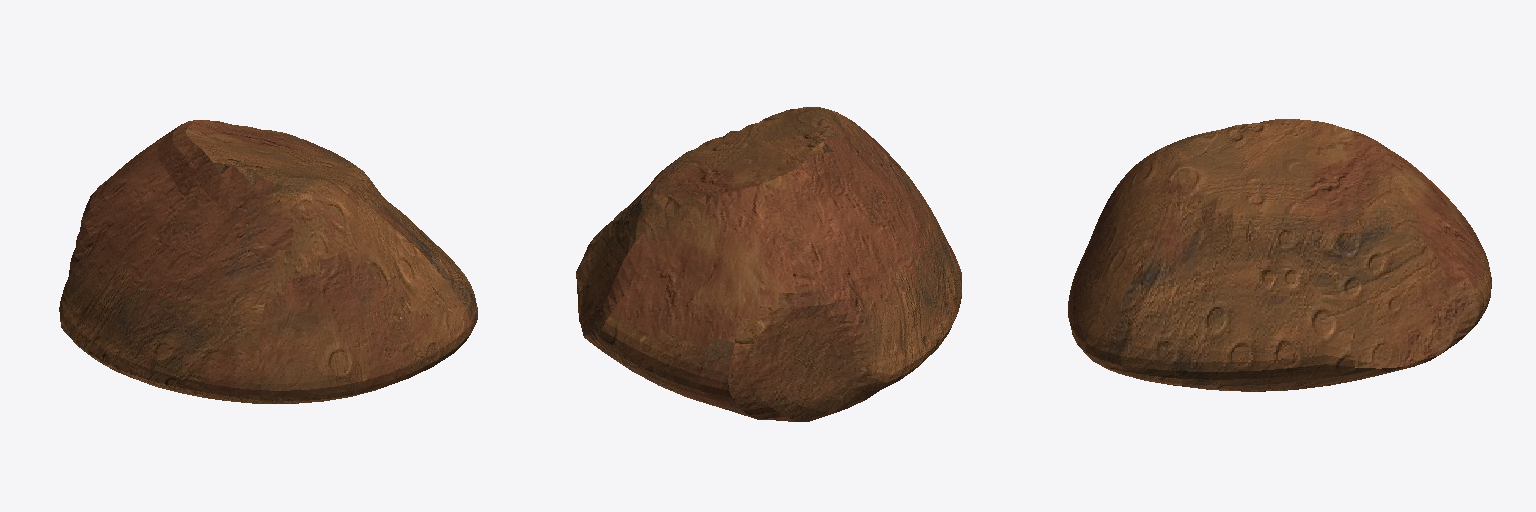
The picture shows the model from 3 angles: view 1: azimuth 30°, elevation 25°; view 2: azimuth 150°, elevation 25°; view 3: azimuth 270°, elevation 25°; orthographic projection.
Parts seen in each view (by area): view 1: Rocks12; view 2: Rocks12; view 3: Rocks12.
Boxes of the visible parts, box(x1,y1,x2,y2) form: Rocks12: box(59, 120, 477, 403); Rocks12: box(576, 107, 961, 421); Rocks12: box(1068, 119, 1491, 391).
Bounding box in the file's own units: 0.7048 × 0.4709 × 0.7968.
Materials: 1 (1 with a texture image).